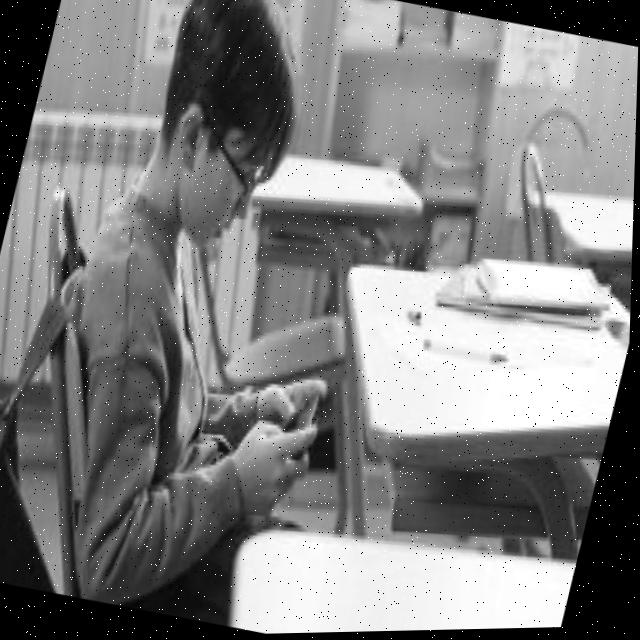phone: (272, 384, 330, 470)
